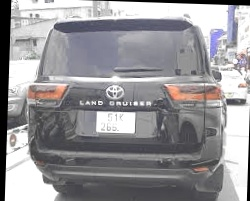Bien-so: (92, 109, 133, 130)
